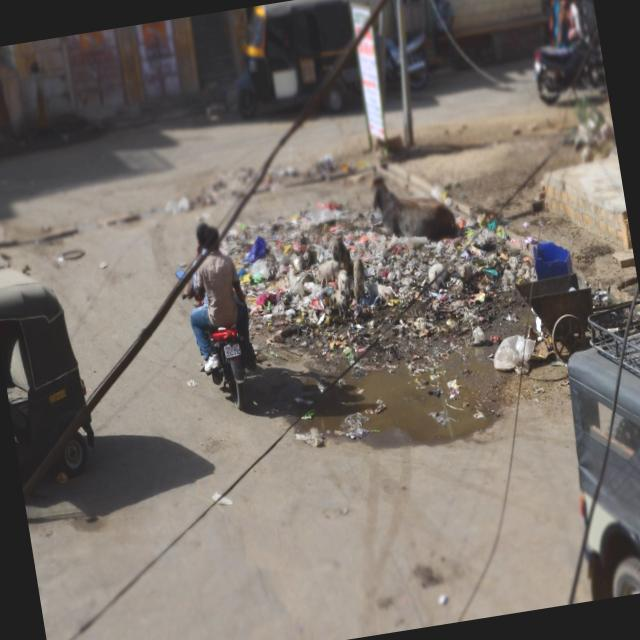garbage: (240, 205, 534, 367)
